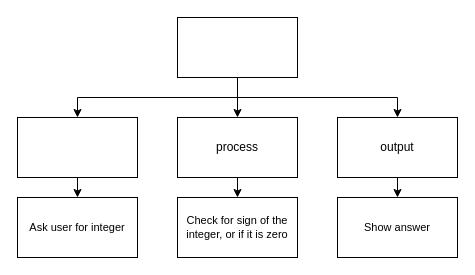
Some shapes in this 475 by 275 pixel diagram are drawn without their labels. Here are the shapes that lost their labels. From the top down, the centre of each, then its label:
At (237,47): "Positive, negative or zero".
At (77,147): "input".
